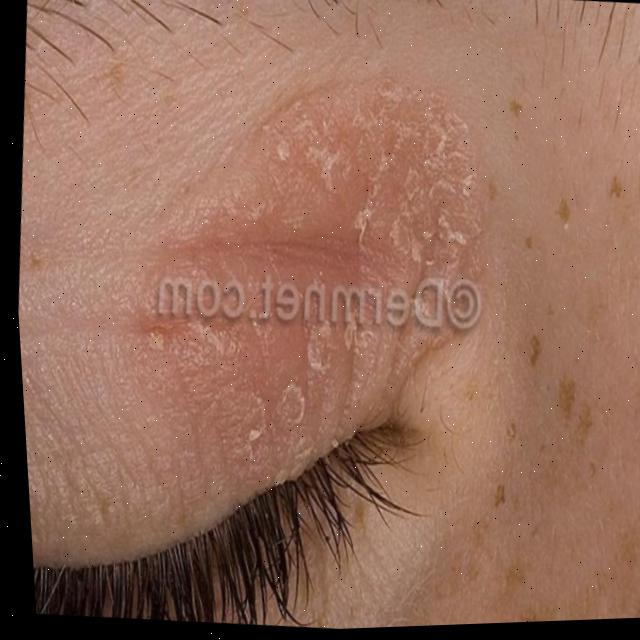Eczema: (137, 64, 499, 452)
